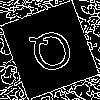Q: (25, 24, 81, 84)
